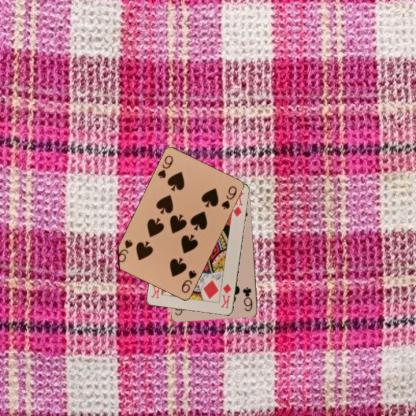6c: (240, 285, 254, 312)
9s: (179, 268, 198, 295), (155, 153, 174, 180)
Kd: (218, 280, 233, 310)
